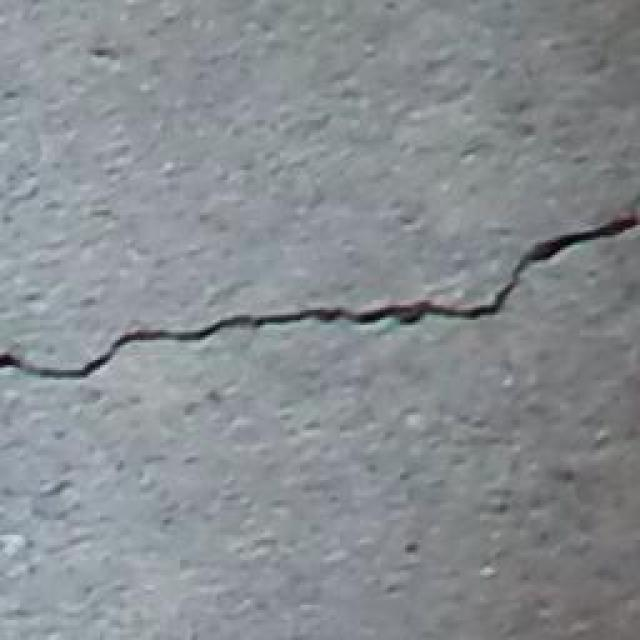concrete-crack: (0, 209, 640, 382)
